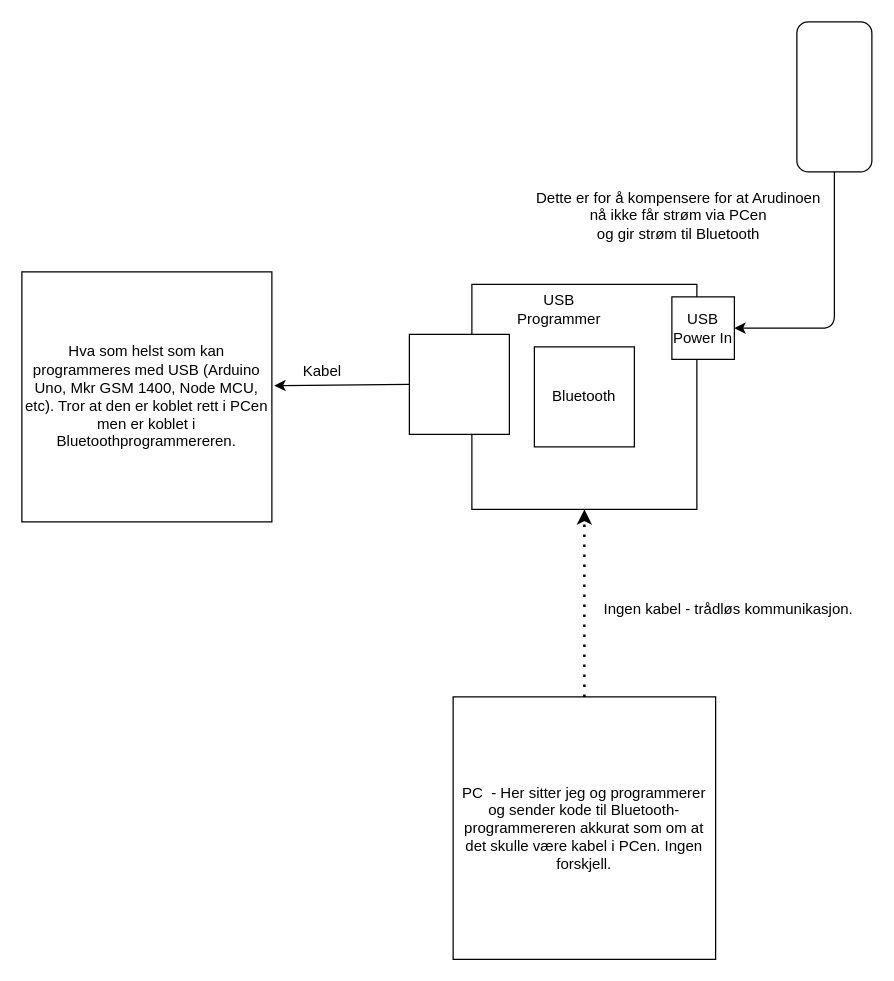
The diagram is 894 pixels wide and 981 high, and some of its shapes have lost their labels. Here are the shapes that lost their labels. From the top down, the box of each, then its label:
(796, 21, 872, 172): Powerbank
(408, 333, 509, 434): USB ut
